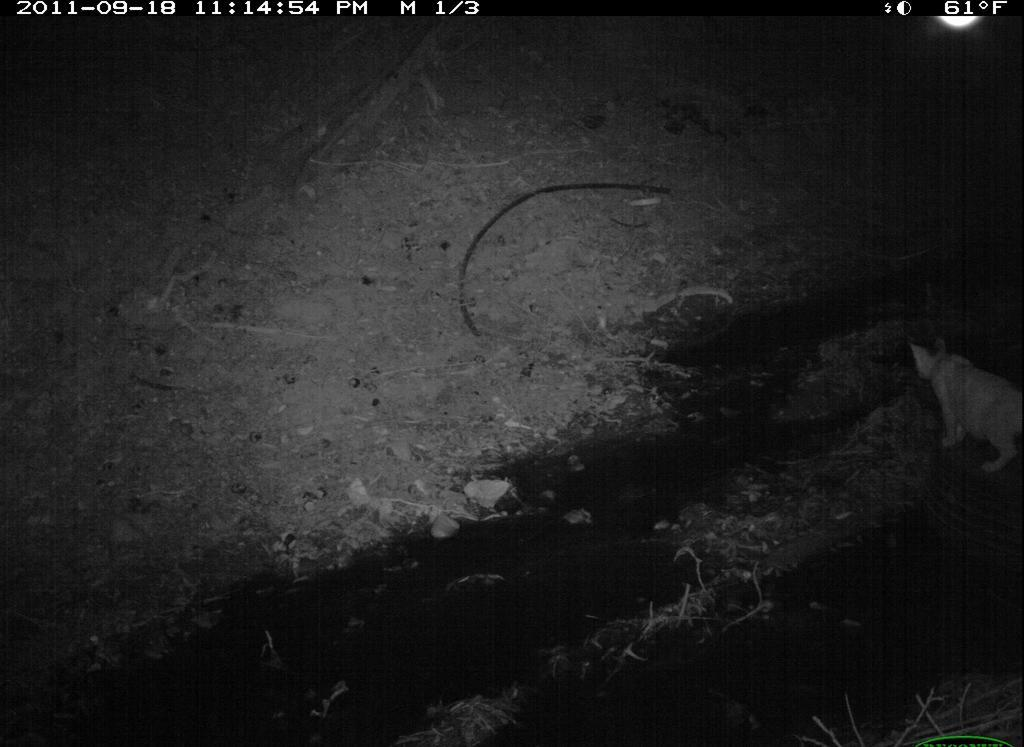cat: (904, 318, 1021, 513)
